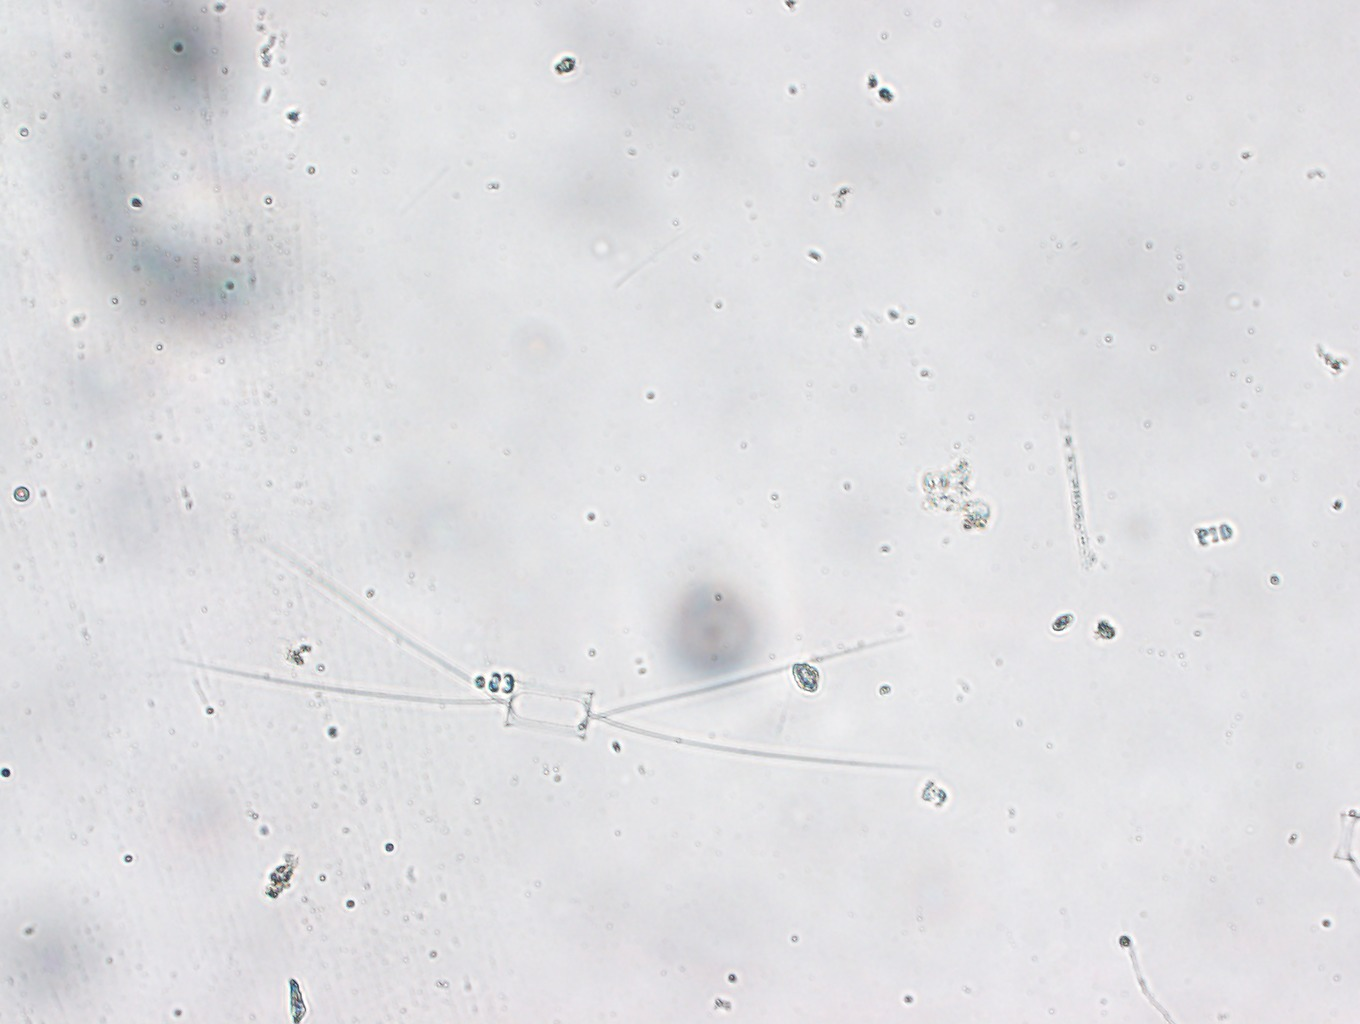chaetoceros: (170, 544, 917, 770)
